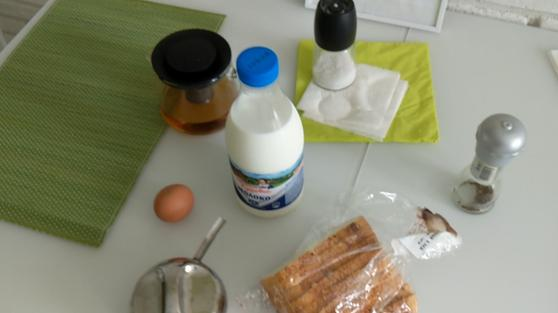egg: (153, 182, 196, 223)
milk: (229, 50, 305, 214)
white_bread: (266, 216, 419, 313)
